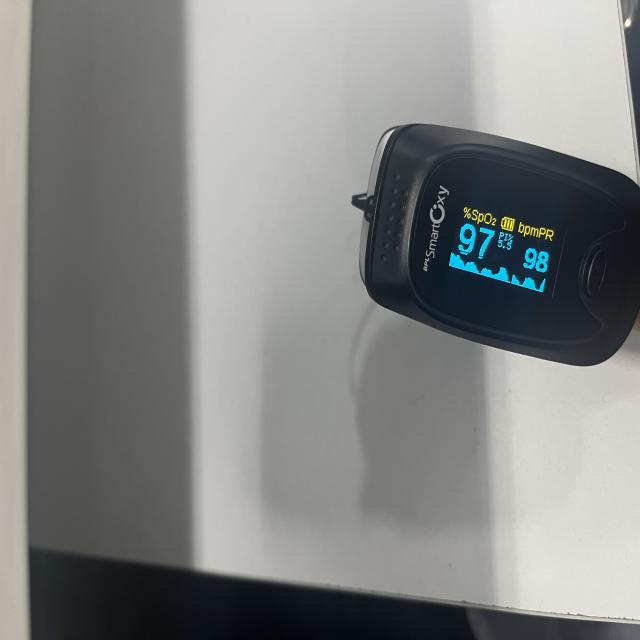spo2: (353, 124, 640, 370)
